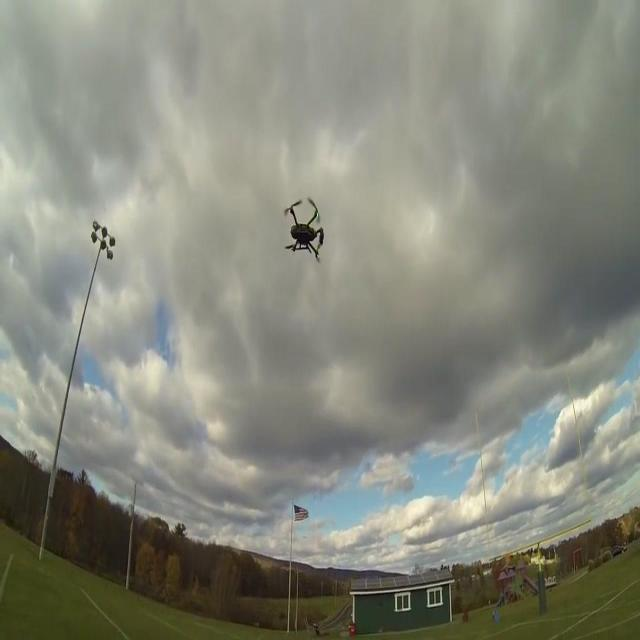UAV: (284, 197, 324, 263)
